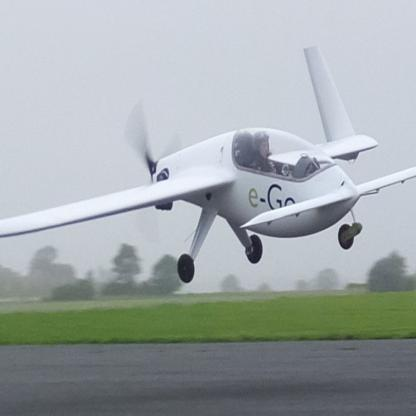CIV_Plane: (1, 38, 414, 316)
